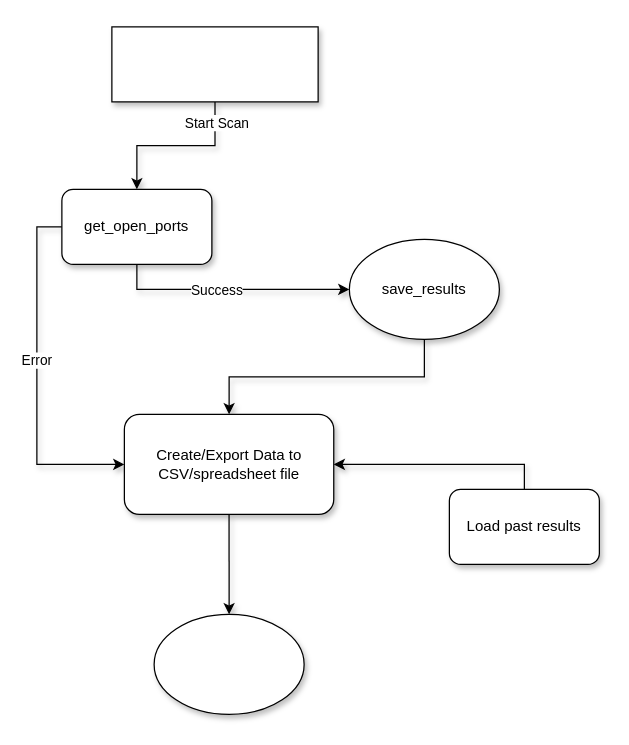
The diagram is 629 pixels wide and 745 high, and some of its shapes have lost their labels. Here are the shapes that lost their labels. From the top down, the centre of each, then its label:
At (x=216, y=66): "PortScanner(Network Tool)".
At (x=230, y=665): "Export file".
